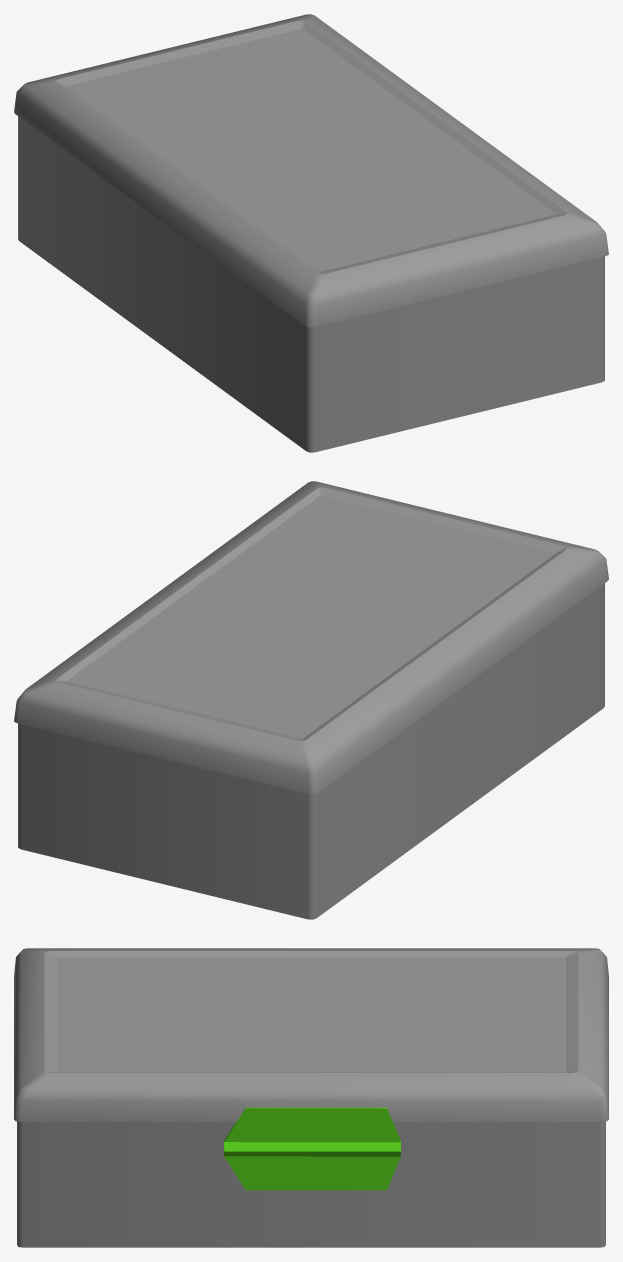
File: caisse_de_soin_medikit.fbx
3 renders of one model, top to bottom at view 1: azimuth 30°, elevation 25°; view 2: azimuth 150°, elevation 25°; view 3: azimuth 270°, elevation 25°, orthographic.
Visible parts, largest first — view 1: Box001; view 2: Box001; view 3: Box001.
Boxes of the visible parts, bbox=[...] form: Box001: bbox=[14, 14, 608, 452]; Box001: bbox=[14, 481, 608, 919]; Box001: bbox=[14, 948, 608, 1247].
Size of the model in its own units: 18.88 by 9.54 by 31.55.
